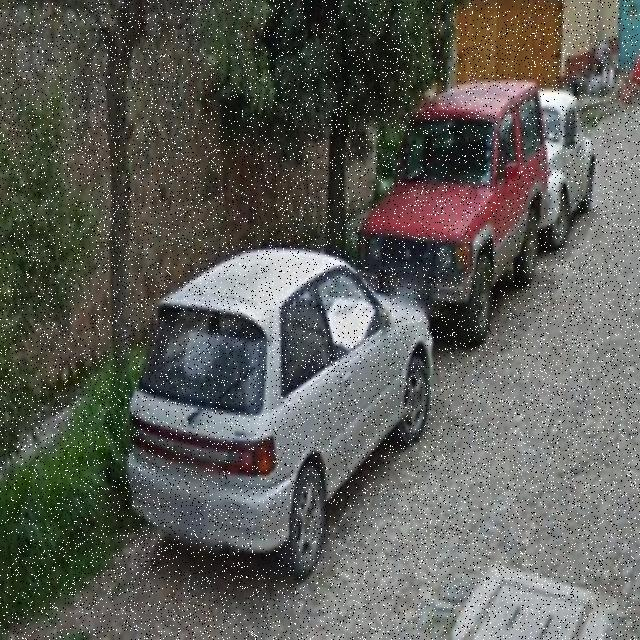cars: (128, 242, 434, 578), (374, 95, 543, 329), (548, 88, 603, 254)
